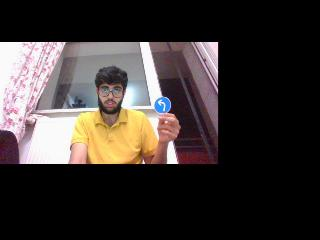left: (154, 98, 172, 114)
